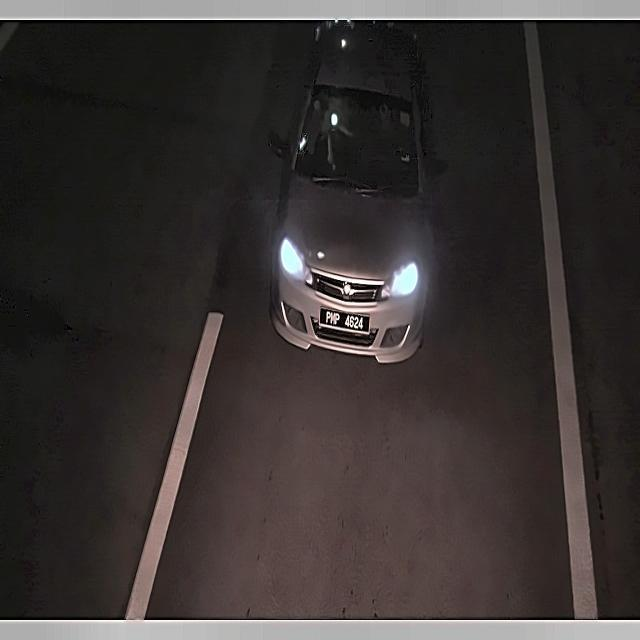car: (314, 302, 374, 339)
